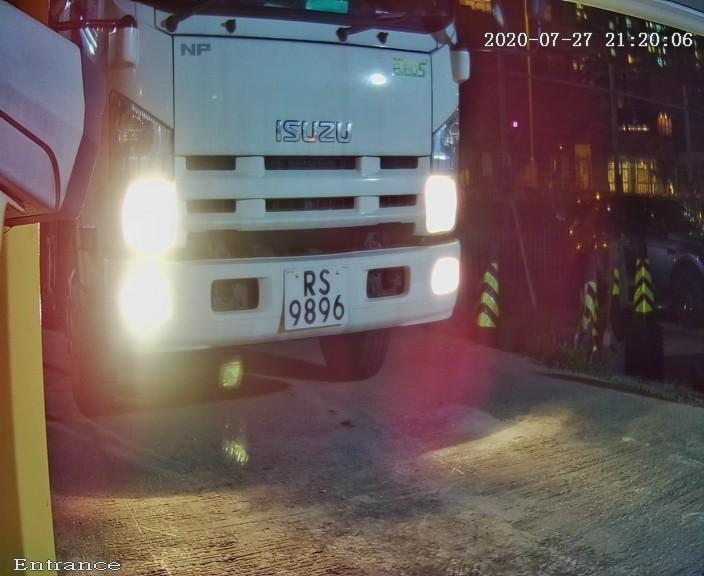privatecar: (57, 1, 573, 430)
